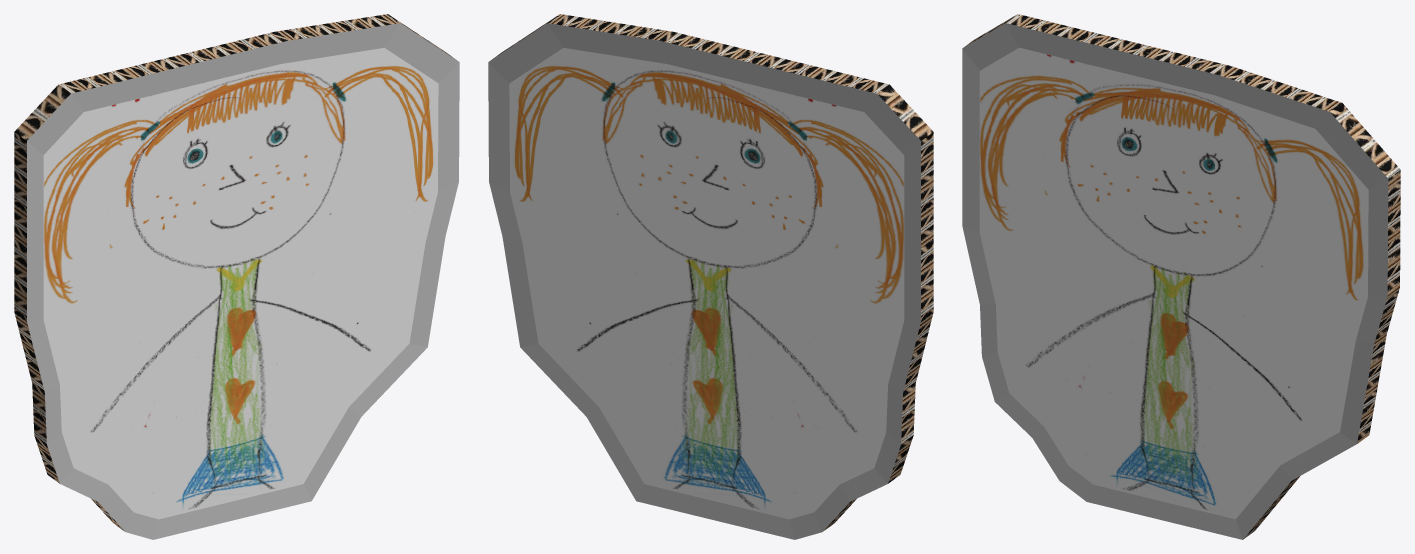
The model's file is Pipsa1.fbx.
The picture shows the model from 3 angles, left to right: view 1: azimuth 30°, elevation 25°; view 2: azimuth 150°, elevation 25°; view 3: azimuth 330°, elevation 25°; orthographic projection.
Visible parts, largest first — view 1: Pipsa1; view 2: Pipsa1; view 3: Pipsa1.
Part boxes in pixels (x1,y1,x2,y2): Pipsa1: [14, 14, 459, 539]; Pipsa1: [488, 14, 933, 539]; Pipsa1: [962, 14, 1400, 539].
Size of the model in its own units: 213 by 219 by 10.71.
